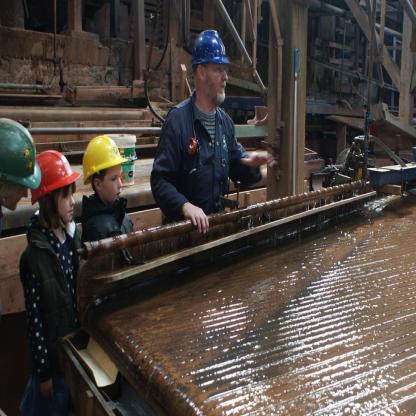Helmet: (0, 118, 43, 194), (80, 133, 126, 202), (29, 148, 82, 206), (190, 26, 231, 66)
